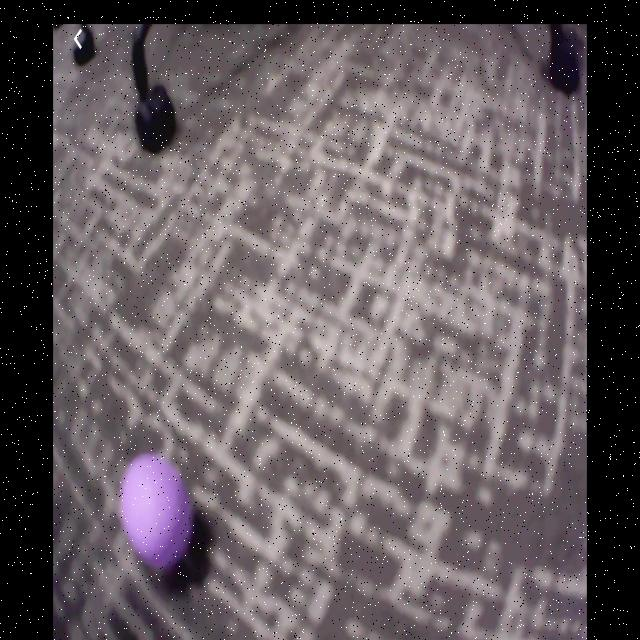ball: (124, 457, 193, 569)
